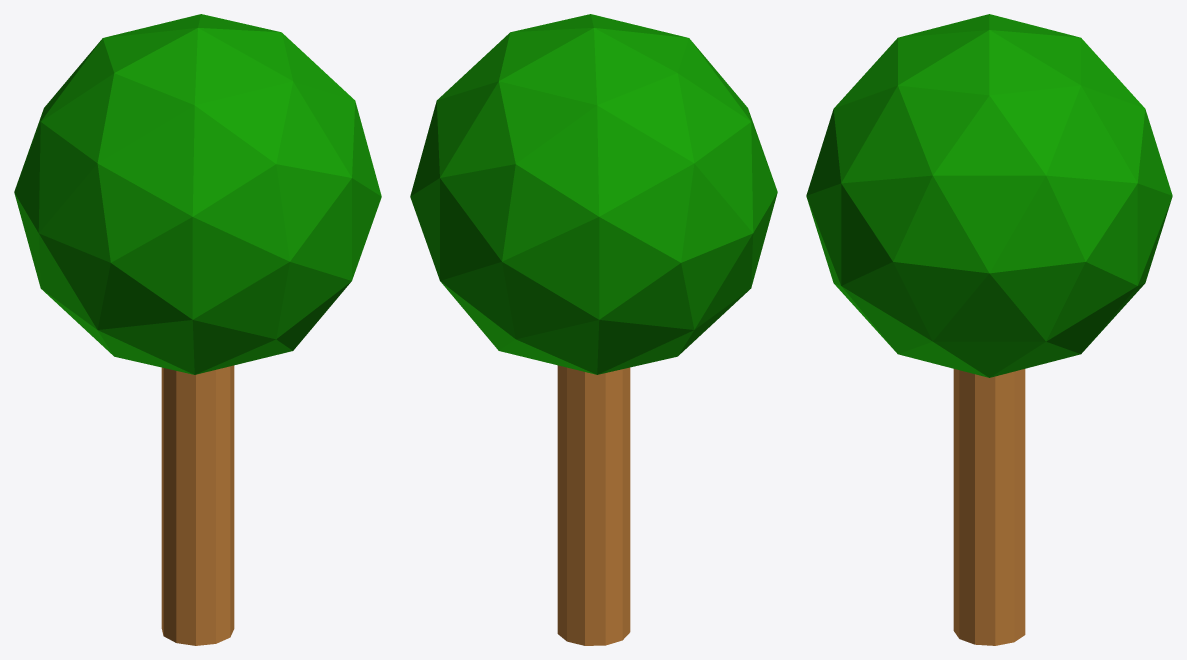
Rendered from tree0.gltf.
3 renders of one model, left to right at view 1: azimuth 30°, elevation 25°; view 2: azimuth 150°, elevation 25°; view 3: azimuth 270°, elevation 25°, orthographic.
Visible parts, largest first — view 1: Icosahedron, Cylinder; view 2: Icosahedron, Cylinder; view 3: Icosahedron, Cylinder.
Boxes of the visible parts, bbox=[...] form: Icosahedron: bbox=[14, 14, 381, 374]; Cylinder: bbox=[161, 365, 234, 645]; Icosahedron: bbox=[410, 14, 777, 374]; Cylinder: bbox=[557, 365, 630, 645]; Icosahedron: bbox=[806, 14, 1172, 377]; Cylinder: bbox=[953, 369, 1025, 645].
Size of the model in its own units: 1 by 1.81 by 1.
